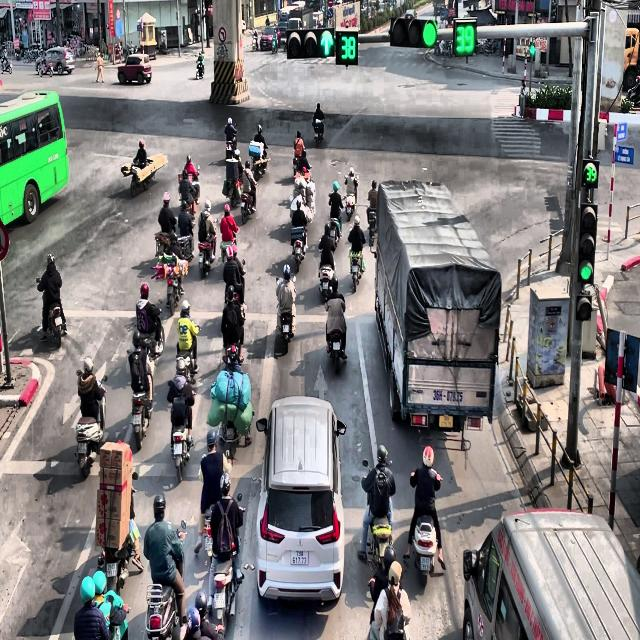lisence_plate: (430, 385, 466, 403), (290, 549, 310, 566), (437, 413, 455, 429)
